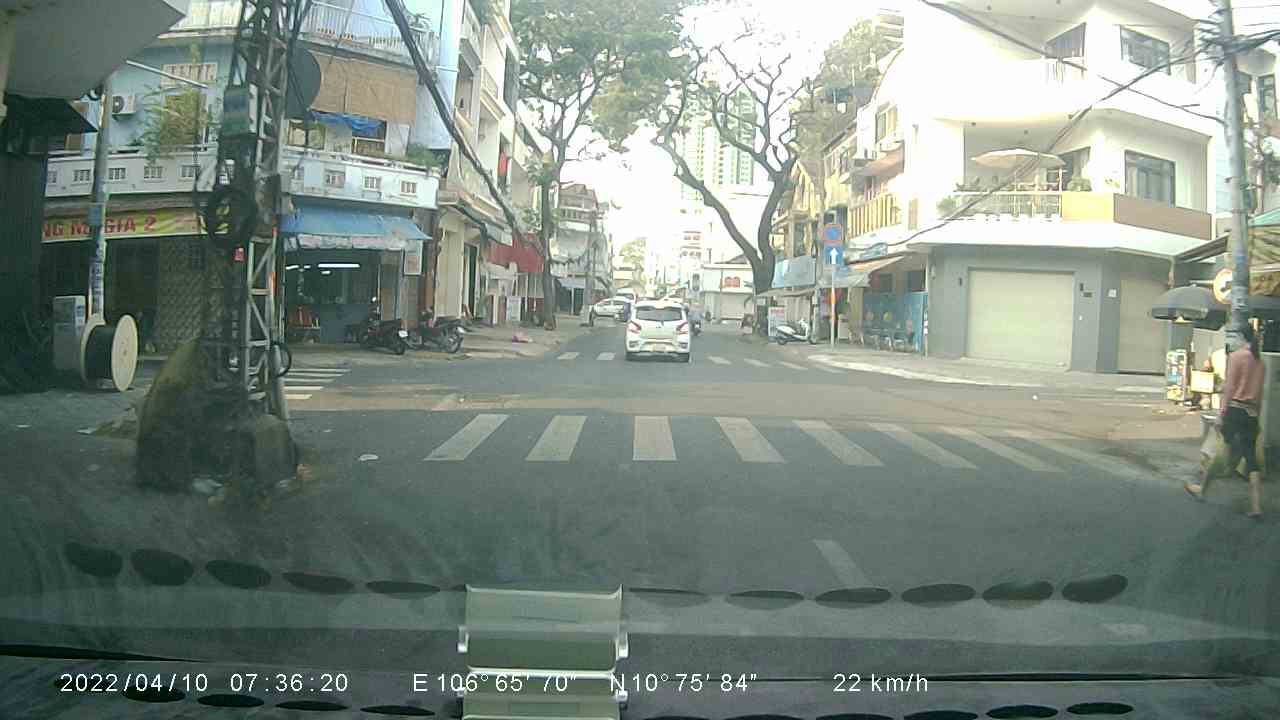Bien khac: (823, 243, 845, 265)
Cam do xe: (822, 218, 846, 245)
